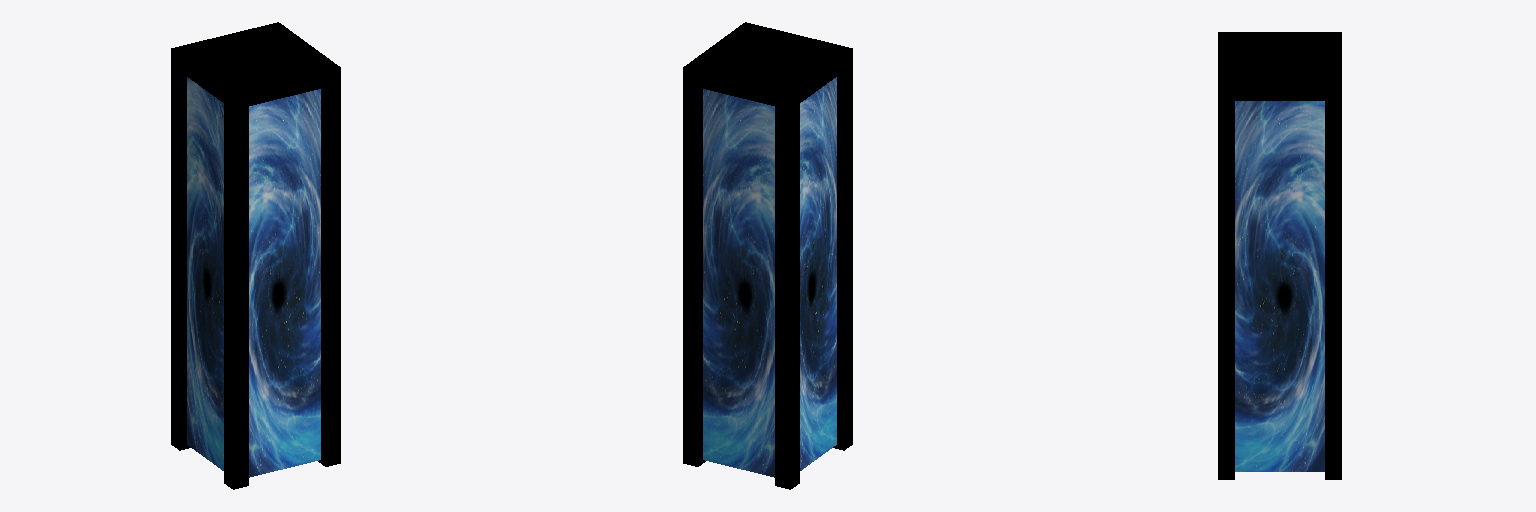
3 views of the same model, side by side, from view 1: azimuth 30°, elevation 25°; view 2: azimuth 150°, elevation 25°; view 3: azimuth 270°, elevation 25° (orthographic).
Visible parts, largest first — view 1: pasted__pasted__pPlane1 pasted__group12 group13, pPlane1, polySurface3 polySurface11, polySurface3 polySurface12, polySurface7 polySurface3, polySurface3 polySurface8; view 2: pasted__pasted__pasted__pPlane1 pasted__pasted__group12 pasted__, pPlane1, polySurface3 polySurface8, polySurface3 polySurface12, polySurface3 polySurface10, polySurface3 polySurface11; view 3: pasted__pPlane1 group12, polySurface3 polySurface12, polySurface3 polySurface10, polySurface7 polySurface3.
Part boxes in pixels (x1,y1,x2,y2): pasted__pasted__pPlane1 pasted__group12 group13: (249, 89, 320, 477); pPlane1: (187, 77, 223, 470); polySurface3 polySurface11: (224, 96, 248, 489); polySurface3 polySurface12: (171, 22, 340, 106); polySurface7 polySurface3: (318, 76, 340, 466); polySurface3 polySurface8: (171, 57, 190, 450); pasted__pasted__pasted__pPlane1 pasted__pasted__group12 pasted__: (703, 89, 774, 477); pPlane1: (800, 77, 836, 470); polySurface3 polySurface8: (775, 96, 799, 489); polySurface3 polySurface12: (683, 22, 852, 108); polySurface3 polySurface10: (683, 76, 705, 466); polySurface3 polySurface11: (833, 57, 852, 450); pasted__pPlane1 group12: (1235, 101, 1324, 471); polySurface3 polySurface12: (1218, 32, 1341, 100); polySurface3 polySurface10: (1325, 93, 1341, 479); polySurface7 polySurface3: (1218, 93, 1234, 479).
Bounding box in the file's own units: 7 × 24.5 × 7.
Materials: 5 (1 with a texture image).